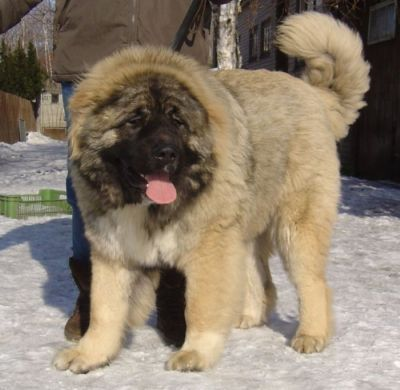cau_ovcharka: (53, 11, 371, 382)
person: (0, 0, 234, 350)
